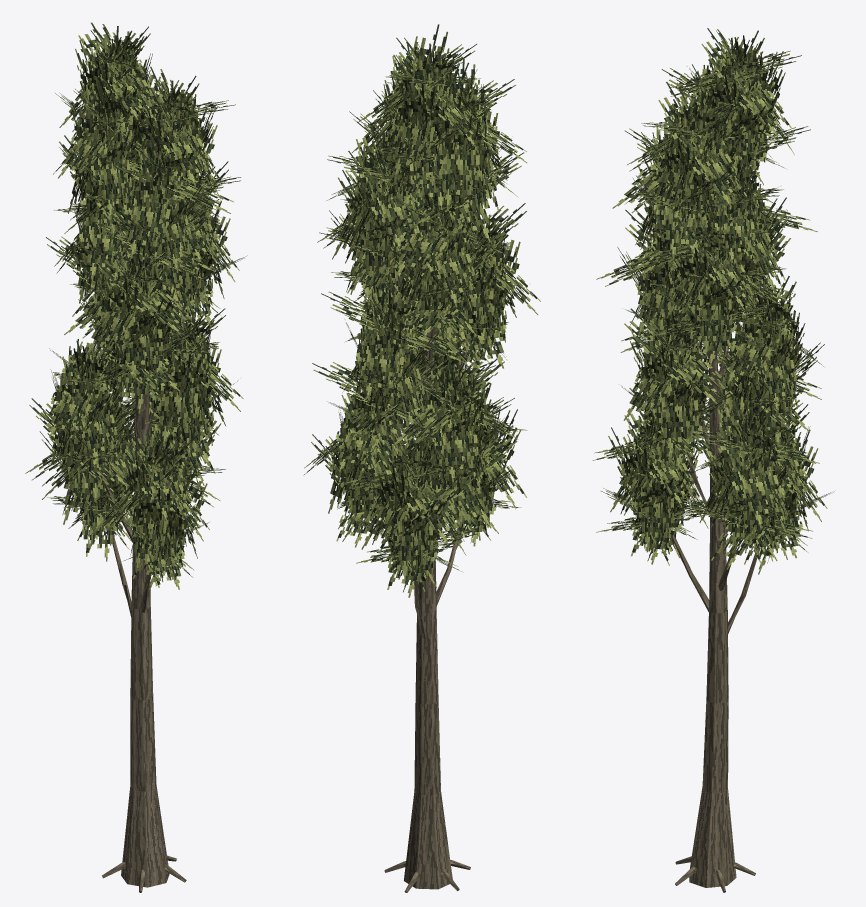
The model's file is TREE_Poplar_A.glb.
3 views of the same model, side by side, from view 1: azimuth 30°, elevation 25°; view 2: azimuth 150°, elevation 25°; view 3: azimuth 270°, elevation 25° (orthographic). The views are drawn at different scales.
Parts seen in each view (by area): view 1: TREE_Poplar_A__Card, TREE_Poplar_A__Bark; view 2: TREE_Poplar_A__Card, TREE_Poplar_A__Bark; view 3: TREE_Poplar_A__Card, TREE_Poplar_A__Bark.
Boxes of the visible parts, x1,y1,x2,y2 form: TREE_Poplar_A__Card: (25,22,247,589); TREE_Poplar_A__Bark: (95,219,186,892); TREE_Poplar_A__Card: (303,24,540,597); TREE_Poplar_A__Bark: (384,185,474,892); TREE_Poplar_A__Card: (592,28,834,574); TREE_Poplar_A__Bark: (669,328,760,892).
Size of the model in its own units: 4.31 by 16.68 by 4.85.
Materials: 3 (3 with a texture image).
